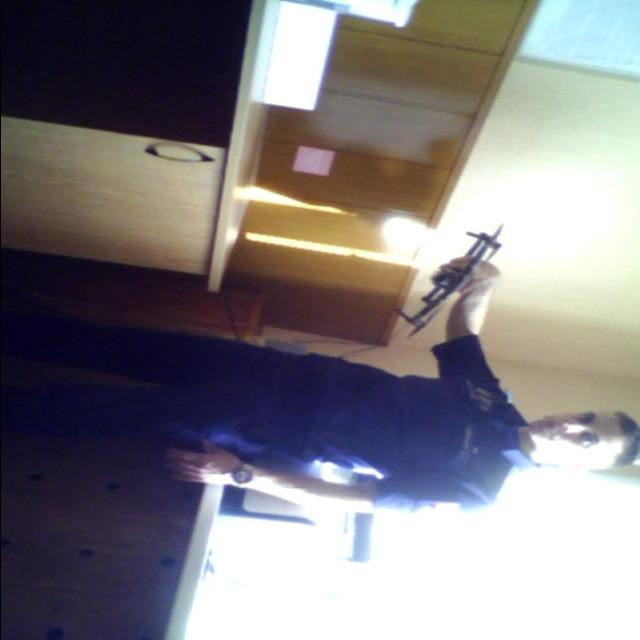drone: (382, 217, 522, 338)
